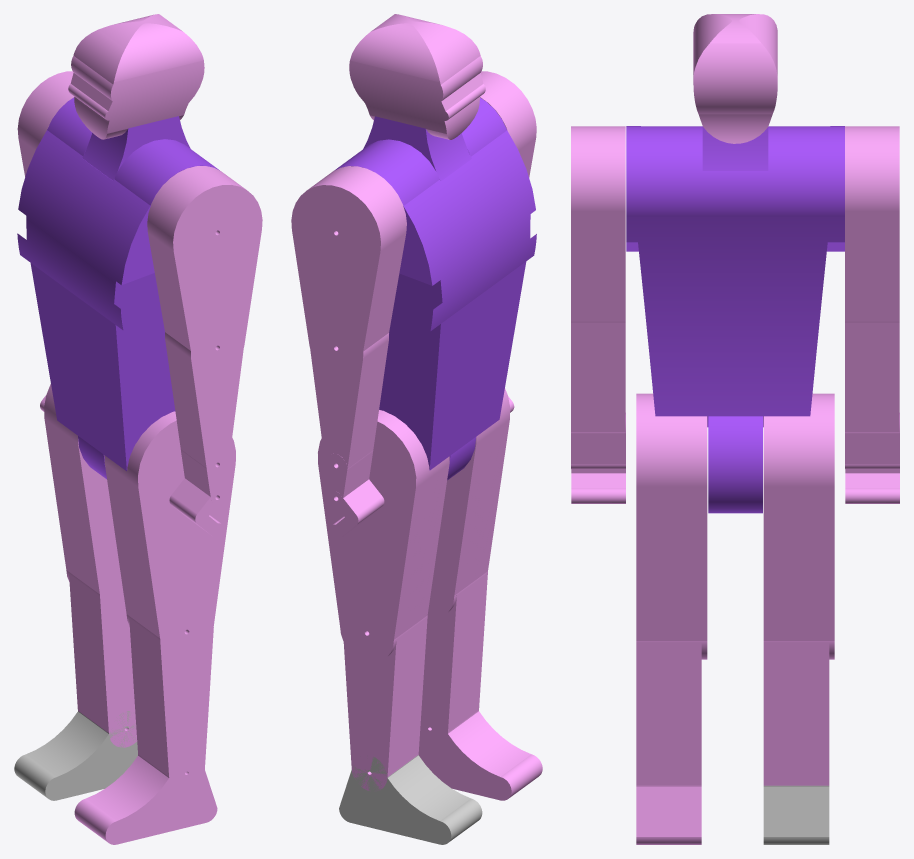
The model's file is Human.gltf.
3 views of the same model, side by side, from view 1: azimuth 30°, elevation 25°; view 2: azimuth 150°, elevation 25°; view 3: azimuth 270°, elevation 25° (orthographic). The views are drawn at different scales.
Parts seen in each view (by area): view 1: Torso_Mass, LA_UP_Mass, LL_UP_Mass, Head_Mass, LL_LW_Mass, RL_UP_Mass, RL_LW_Mass, LL_F_Mass, LA_LW_Mass, RL_F_Mass, RA_UP_Mass, LA_H_Mass (+1 smaller); view 2: Torso_Mass, RL_UP_Mass, RA_UP_Mass, Head_Mass, RL_LW_Mass, LL_UP_Mass, RL_F_Mass, LL_LW_Mass, RA_LW_Mass, LL_F_Mass, LA_UP_Mass, RA_H_Mass (+1 smaller); view 3: Torso_Mass, RL_UP_Mass, LL_UP_Mass, RA_UP_Mass, LA_UP_Mass, Head_Mass, RL_LW_Mass, LL_LW_Mass, RA_LW_Mass, LA_LW_Mass, RL_F_Mass, LL_F_Mass (+4 smaller).
Boxes of the visible parts, left/top/right/bottom form: Torso_Mass: left=17, top=97, right=219, bottom=479; LA_UP_Mass: left=147, top=166, right=262, bottom=376; LL_UP_Mass: left=104, top=411, right=235, bottom=659; Head_Mass: left=68, top=14, right=204, bottom=139; LL_LW_Mass: left=129, top=604, right=213, bottom=791; RL_UP_Mass: left=44, top=384, right=126, bottom=616; RL_LW_Mass: left=69, top=564, right=137, bottom=747; LL_F_Mass: left=74, top=755, right=217, bottom=844; LA_LW_Mass: left=165, top=319, right=243, bottom=476; RL_F_Mass: left=14, top=711, right=137, bottom=800; RA_UP_Mass: left=17, top=71, right=74, bottom=176; LA_H_Mass: left=169, top=478, right=224, bottom=537; Torso_Mass: left=334, top=98, right=536, bottom=480; RL_UP_Mass: left=318, top=410, right=449, bottom=662; RA_UP_Mass: left=291, top=166, right=406, bottom=376; Head_Mass: left=349, top=14, right=485, bottom=139; RL_LW_Mass: left=343, top=616, right=427, bottom=790; LL_UP_Mass: left=427, top=388, right=510, bottom=617; RL_F_Mass: left=339, top=755, right=482, bottom=844; LL_LW_Mass: left=419, top=572, right=487, bottom=747; RA_LW_Mass: left=310, top=320, right=388, bottom=469; LL_F_Mass: left=418, top=711, right=542, bottom=800; LA_UP_Mass: left=480, top=71, right=536, bottom=177; RA_H_Mass: left=329, top=479, right=384, bottom=538; Torso_Mass: left=626, top=126, right=844, bottom=513; RL_UP_Mass: left=763, top=393, right=834, bottom=659; LL_UP_Mass: left=636, top=393, right=707, bottom=659; RA_UP_Mass: left=845, top=126, right=899, bottom=322; LA_UP_Mass: left=571, top=126, right=625, bottom=322; Head_Mass: left=693, top=14, right=777, bottom=143; RL_LW_Mass: left=763, top=641, right=829, bottom=785; LL_LW_Mass: left=636, top=641, right=701, bottom=785; RA_LW_Mass: left=845, top=322, right=899, bottom=432; LA_LW_Mass: left=571, top=322, right=625, bottom=432; RL_F_Mass: left=763, top=785, right=829, bottom=844; LL_F_Mass: left=636, top=785, right=701, bottom=844.
Bounding box in the file's own units: 0.2917 × 1.64 × 0.6013.
